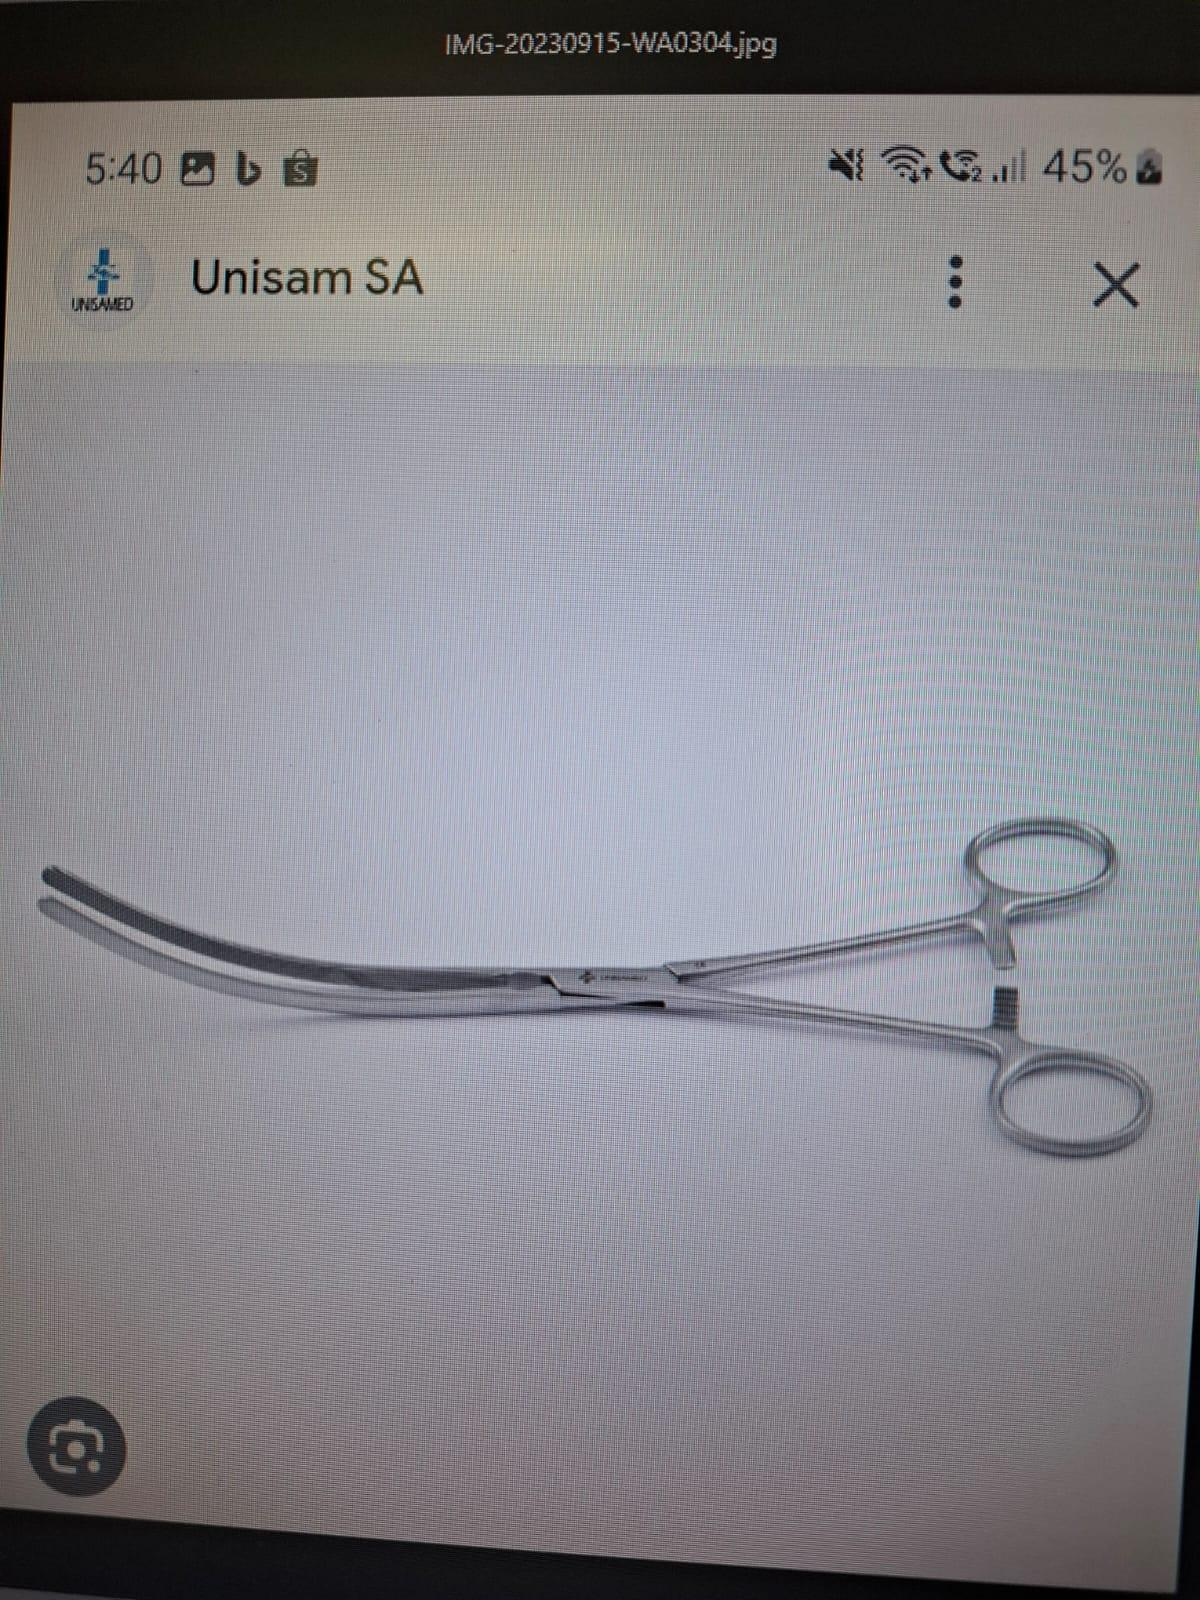Doyel Instestinal Forceps: (13, 787, 1160, 1170)
